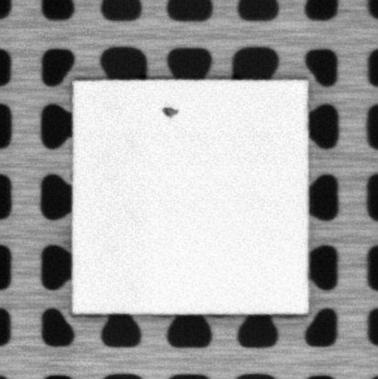DIE_INK: (159, 105, 179, 118)
